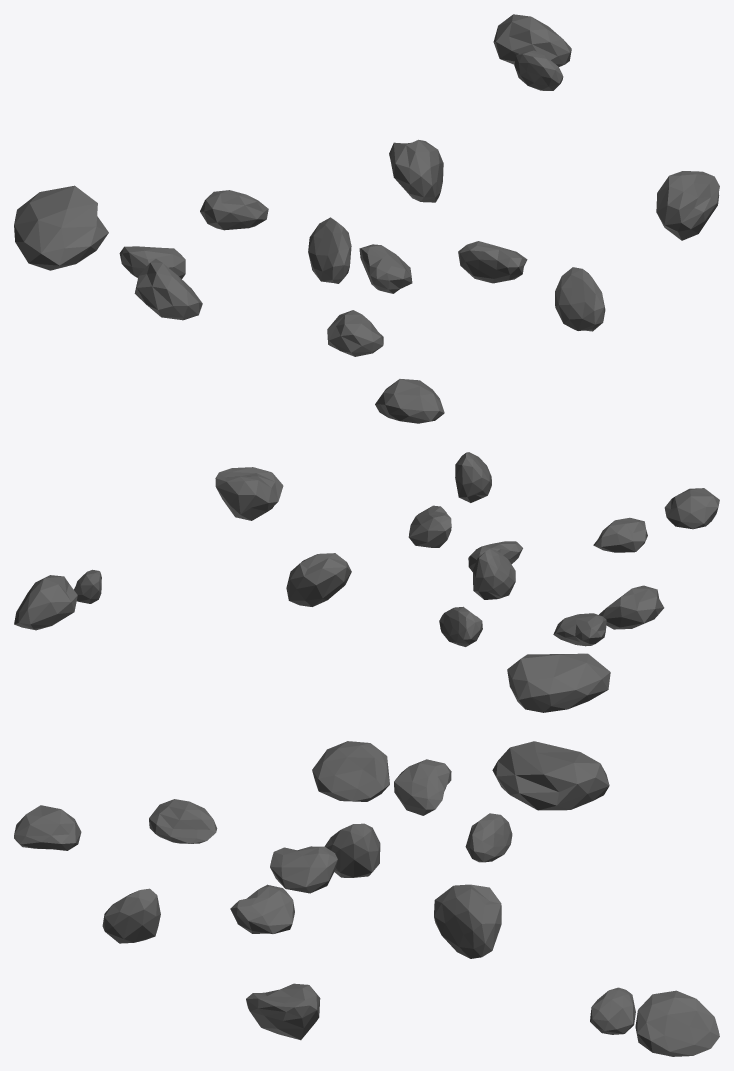
Rendered from pebbles.fbx.
3 renders of one model, top to bottom at view 1: azimuth 30°, elevation 25°; view 2: azimuth 150°, elevation 25°; view 3: azimuth 270°, elevation 25°, orthographic. The views are drawn at different scales.
Visible parts, largest first — view 1: pebbles; view 2: pebbles; view 3: pebbles.
Part boxes in pixels (bbox=[...]): pebbles: bbox=[14, 14, 719, 423]; pebbles: bbox=[14, 452, 719, 712]; pebbles: bbox=[14, 741, 719, 1056].
Bounding box in the file's own units: 69.46 × 7.18 × 70.89.
